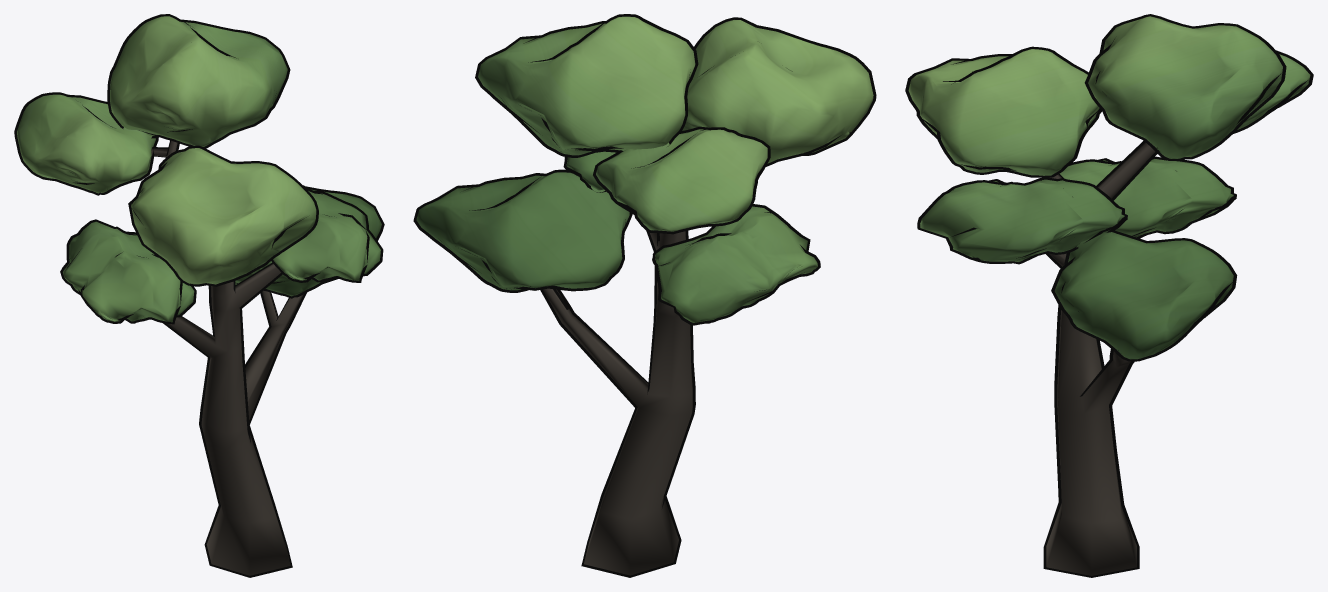
File: env_small_tree.glb
3 renders of one model, left to right at view 1: azimuth 30°, elevation 25°; view 2: azimuth 150°, elevation 25°; view 3: azimuth 270°, elevation 25°, orthographic. The views are drawn at different scales.
Visible parts, largest first — view 1: Cube.006; view 2: Cube.006; view 3: Cube.006.
Part boxes in pixels (x1=…): Cube.006: x1=14, y1=14, x2=384, y2=577; Cube.006: x1=413, y1=14, x2=876, y2=577; Cube.006: x1=905, y1=14, x2=1313, y2=577.
Size of the model in its own units: 0.8497 by 1.27 by 0.886.
2 materials, 1 textured.
